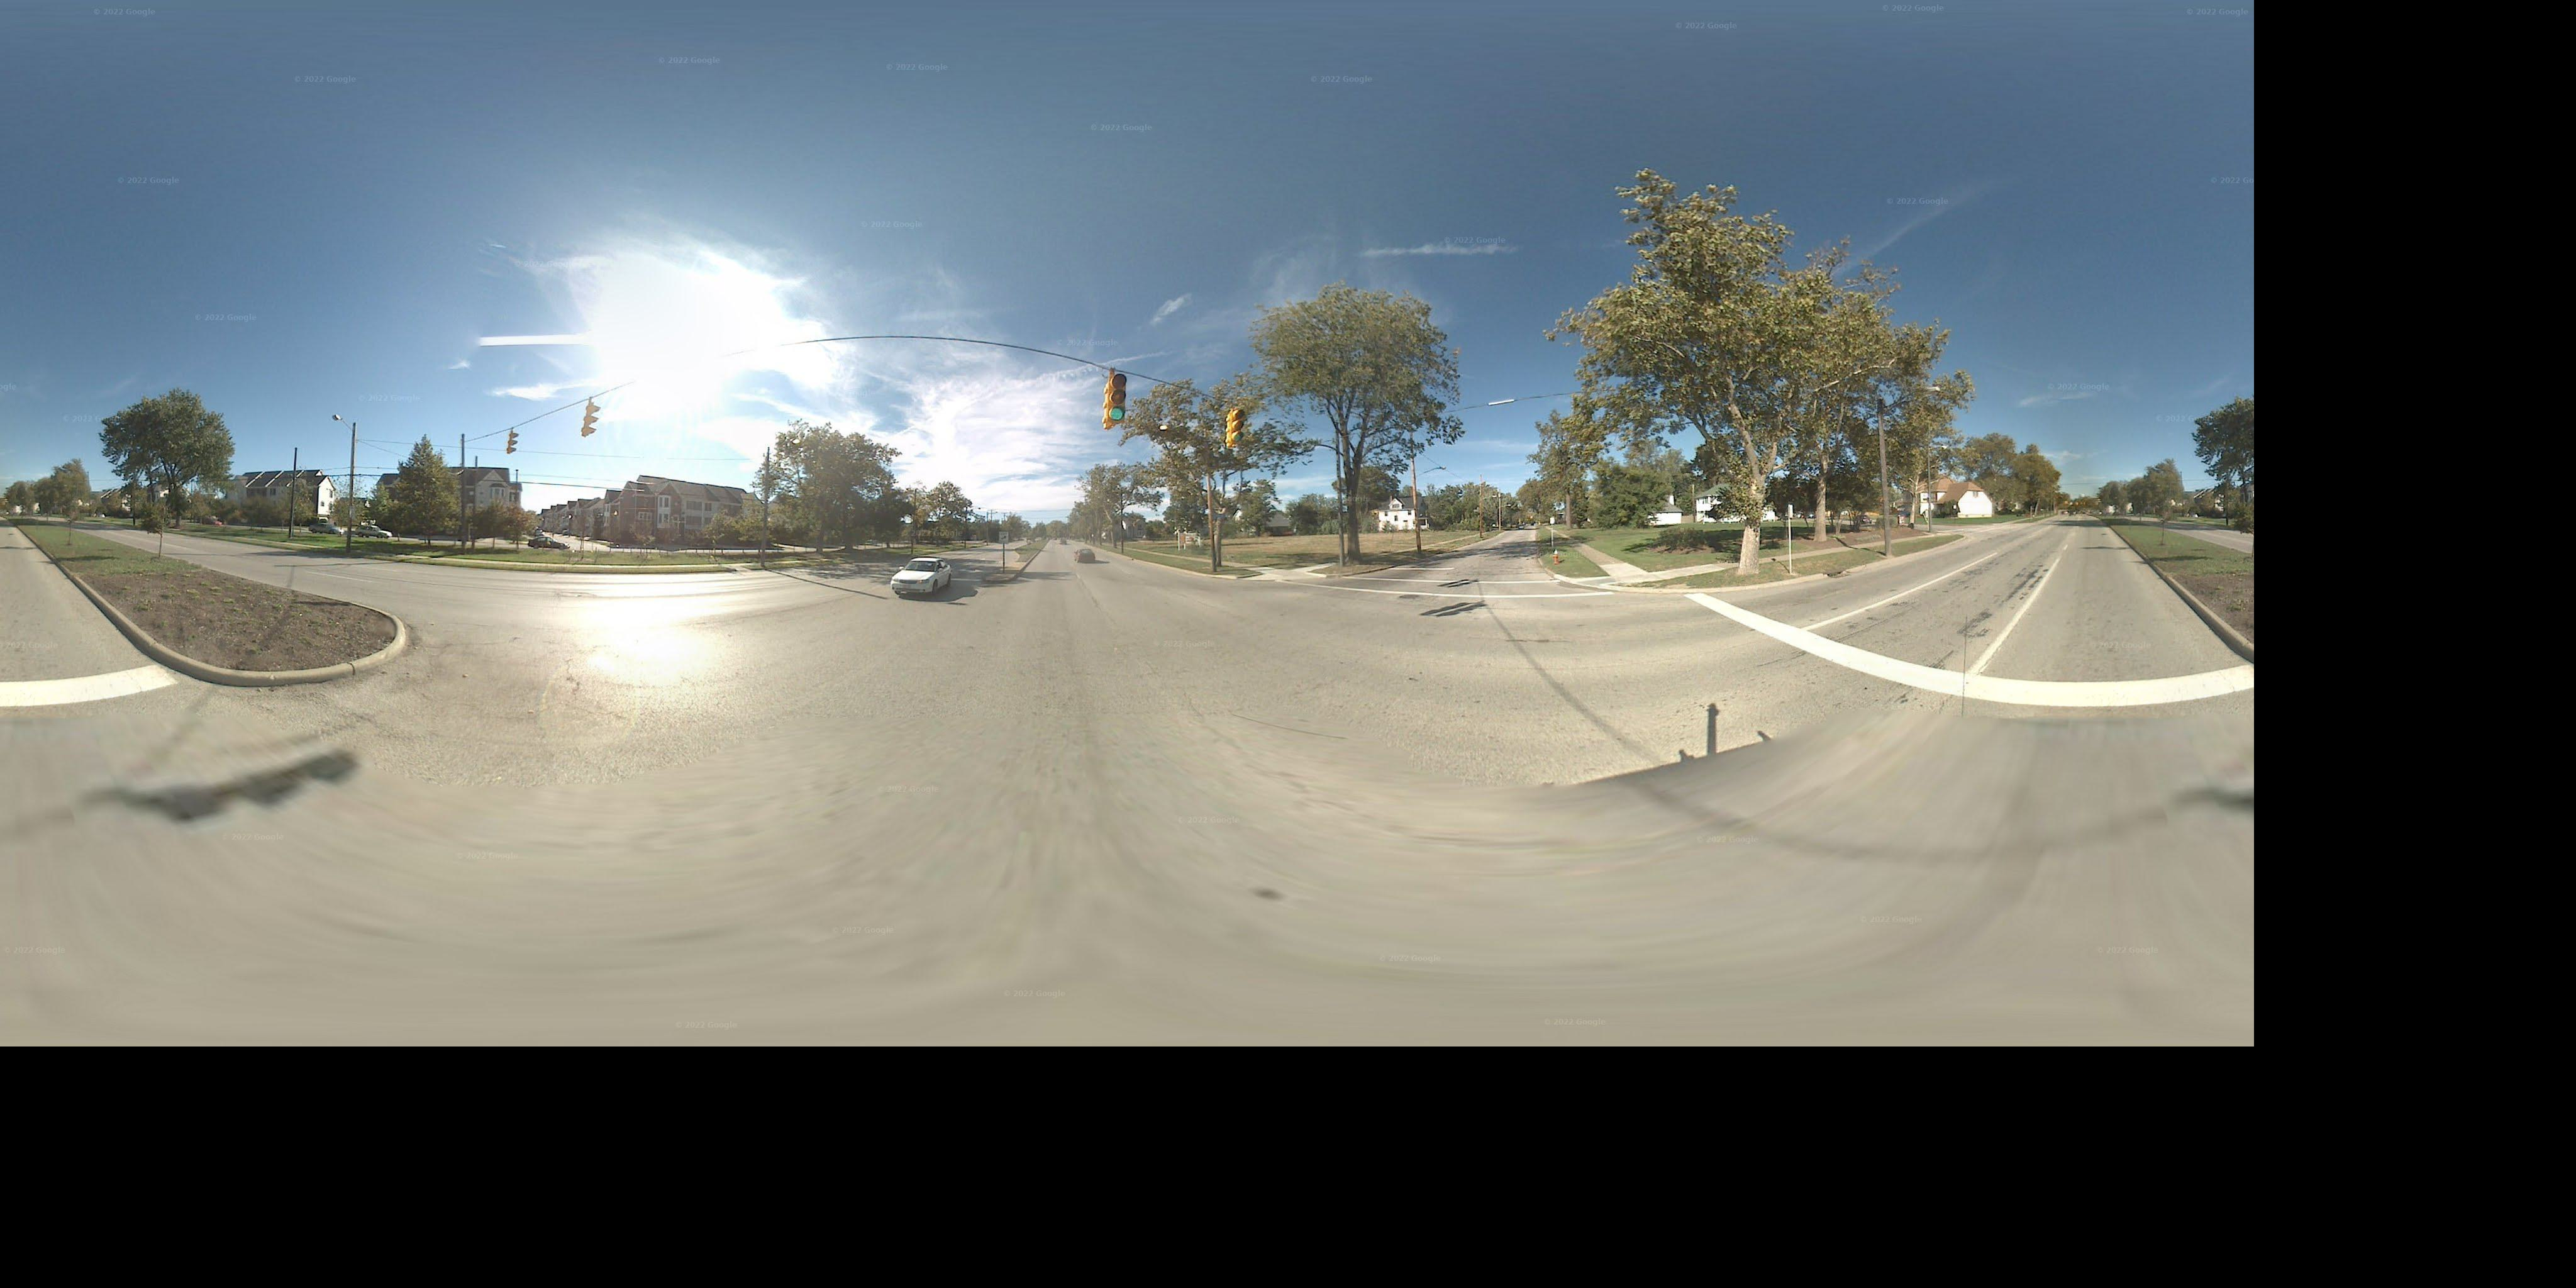Curb Ramp: (1554, 567, 1640, 598), (1255, 565, 1329, 591)
